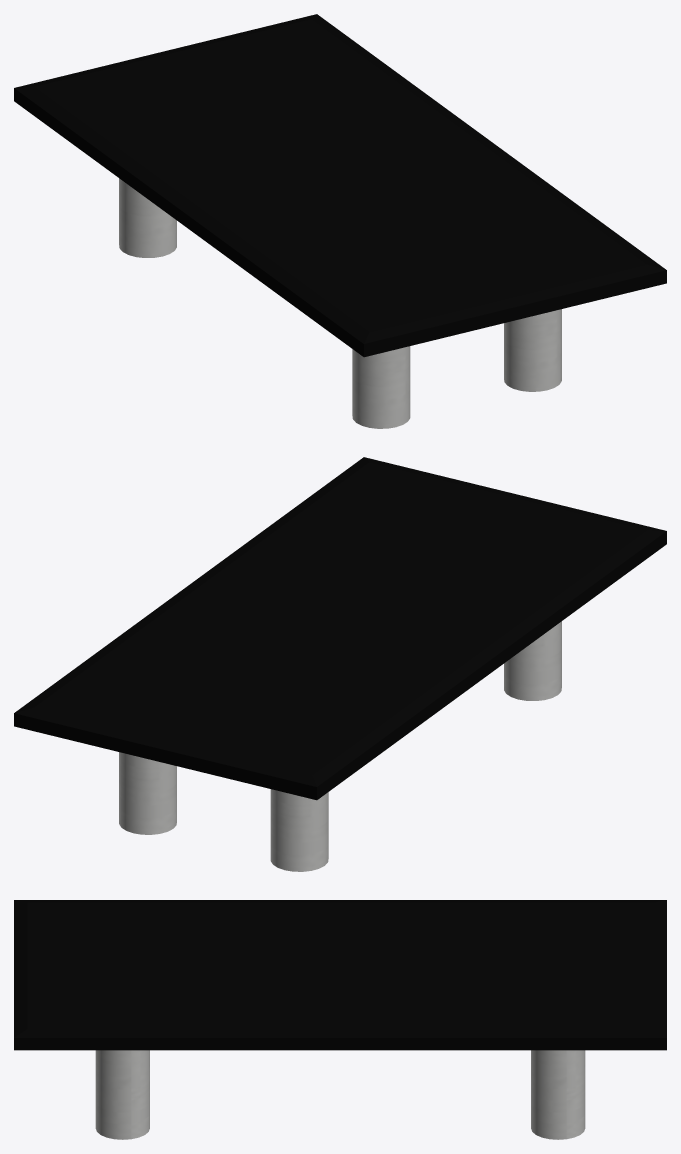
The model's file is TableConference.fbx.
The picture shows the model from 3 angles, top to bottom: view 1: azimuth 30°, elevation 25°; view 2: azimuth 150°, elevation 25°; view 3: azimuth 270°, elevation 25°; orthographic projection. The views are drawn at different scales.
Visible parts, largest first — view 1: pCube1, pCylinder3, pCylinder4, pCylinder2; view 2: pCube1, pCylinder2, pCylinder1, pCylinder3; view 3: pCube1, pCylinder1, pCylinder4.
Part boxes in pixels (x1=…): pCube1: x1=14, y1=14, x2=666, y2=357; pCylinder3: x1=352, y1=346, x2=410, y2=428; pCylinder4: x1=504, y1=309, x2=561, y2=391; pCylinder2: x1=119, y1=178, x2=176, y2=257; pCube1: x1=14, y1=457, x2=666, y2=800; pCylinder2: x1=270, y1=789, x2=328, y2=871; pCylinder1: x1=119, y1=752, x2=176, y2=834; pCylinder3: x1=504, y1=621, x2=561, y2=700; pCube1: x1=14, y1=900, x2=666, y2=1050; pCylinder1: x1=531, y1=1050, x2=585, y2=1139; pCylinder4: x1=95, y1=1050, x2=149, y2=1139.
Bounding box in the file's own units: 3 × 1.3 × 6.
2 materials, 1 textured.
